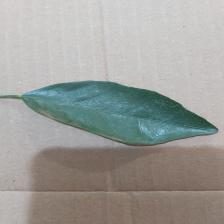healthy: (8, 80, 224, 164)
